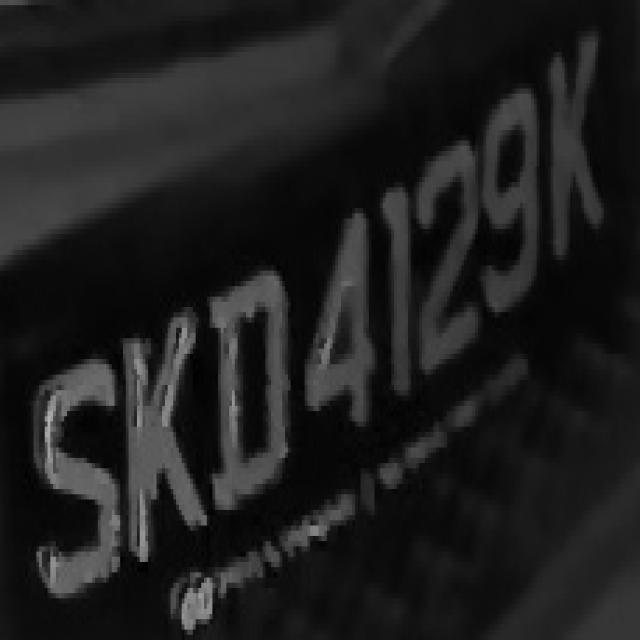1: (383, 162, 425, 422)
2: (411, 135, 489, 375)
4: (299, 213, 383, 458)
8: (483, 83, 548, 323)
D: (207, 260, 302, 520)
K: (118, 302, 210, 572), (545, 31, 612, 276)
S: (28, 349, 126, 614)
